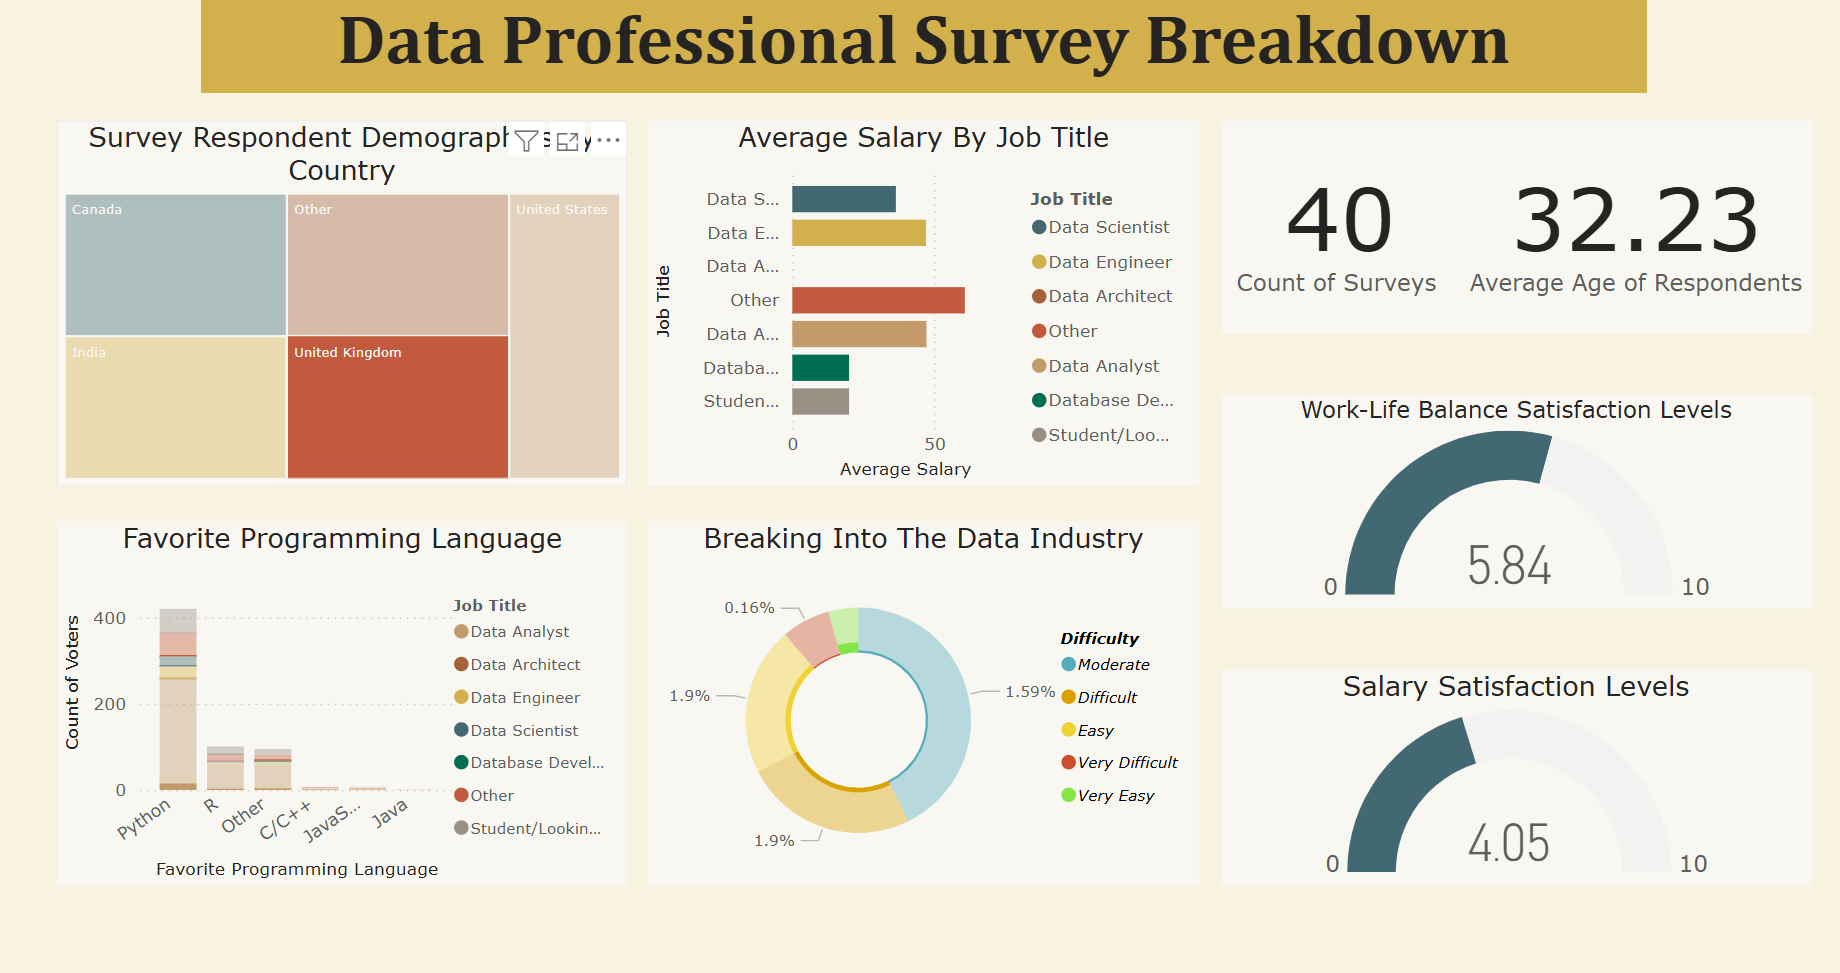

What the dashboard file says about the page in this screenshot:
{"tool":"powerbi","page":{"name":"Page 1","canvas":[1280,720],"ordinal":0},"visuals":[{"type":"textbox","box":[139,29,1002,71],"z":0},{"type":"card","fields":{"Values":["Count(Data Professional Survey.Unique ID)"]},"box":[846,120,165,148],"z":1000},{"type":"card","fields":{"Values":["Avg(Data Professional Survey.Q10 - Current Age)"]},"box":[1011,120,244,148],"z":2000},{"type":"barChart","title":"Average Salary By Job Title","fields":{"Category":["Data Professional Survey.Q1 - Which Title Best Fits your Current Role?.1"],"Y":["Avg(Data Professional Survey.Average Salary)"],"Series":["Data Professional Survey.Q1 - Which Title Best Fits your Current Role?.1"]},"box":[449,120,382,253],"z":3000},{"type":"columnChart","title":"Favorite Programming Language ","fields":{"Category":["Data Professional Survey.Q5 - Favorite Programming Language.1"],"Y":["CountNonNull(Data Professional Survey.Unique ID)"],"Series":["Data Professional Survey.Q1 - Which Title Best Fits your Current Role?.1"]},"box":[40,397.3,395.5,252.7],"z":4000},{"type":"treemap","title":"Survey Respondent Demographics by Country","fields":{"Group":["Data Professional Survey.Q11 - Which Country do you live in?.1"],"Values":["Count(Data Professional Survey.Q11 - Which Country do you live in?.1)"]},"box":[40,120,395,253],"z":5000},{"type":"gauge","title":"Salary Satisfaction Levels","fields":{"Y":["Avg(Data Professional Survey.Q6 - How Happy are you in your Current Position with the following? (Salary))"],"MinValue":["Min(Data Professional Survey.Q6 - How Happy are you in your Current Position with the following? (Salary))"],"MaxValue":["Max(Data Professional Survey.Q6 - How Happy are you in your Current Position with the following? (Salary))"]},"box":[846,500,409,150],"z":6000},{"type":"gauge","title":"Work-Life Balance Satisfaction Levels","fields":{"Y":["Avg(Data Professional Survey.Q6 - How Happy are you in your Current Position with the following? (Work/Life Balance))"],"MaxValue":["Max(Data Professional Survey.Q6 - How Happy are you in your Current Position with the following? (Work/Life Balance))1"],"MinValue":["Min(Data Professional Survey.Q6 - How Happy are you in your Current Position with the following? (Work/Life Balance))"]},"box":[846,310,409,148],"z":7000},{"type":"donutChart","title":"Breaking Into The Data Industry","fields":{"Y":["CountNonNull(Data Professional Survey.Q7 - How difficult was it for you to break into Data? - Copy)"],"Category":["Data Professional Survey.Q7 - How difficult was it for you to break into Data? - Copy"]},"box":[449.1,397.3,381.8,252.7],"z":8000}]}

Visuals, with their boxes on the page's 1280x720 design canvas (x1, y1, x2, y2). These are canvas units, not pixel positions in the 1840x973 screenshot, which may show the page scaled, cropped or inside an application window:
textbox: <box>139,29,1141,100</box>
card - Count(Data Professional Survey.Unique ID): <box>846,120,1011,268</box>
card - Avg(Data Professional Survey.Q10 - Current Age): <box>1011,120,1255,268</box>
"Average Salary By Job Title" barChart: <box>449,120,831,373</box>
"Favorite Programming Language " columnChart: <box>40,397,436,650</box>
"Survey Respondent Demographics by Country" treemap: <box>40,120,435,373</box>
"Salary Satisfaction Levels" gauge: <box>846,500,1255,650</box>
"Work-Life Balance Satisfaction Levels" gauge: <box>846,310,1255,458</box>
"Breaking Into The Data Industry" donutChart: <box>449,397,831,650</box>
